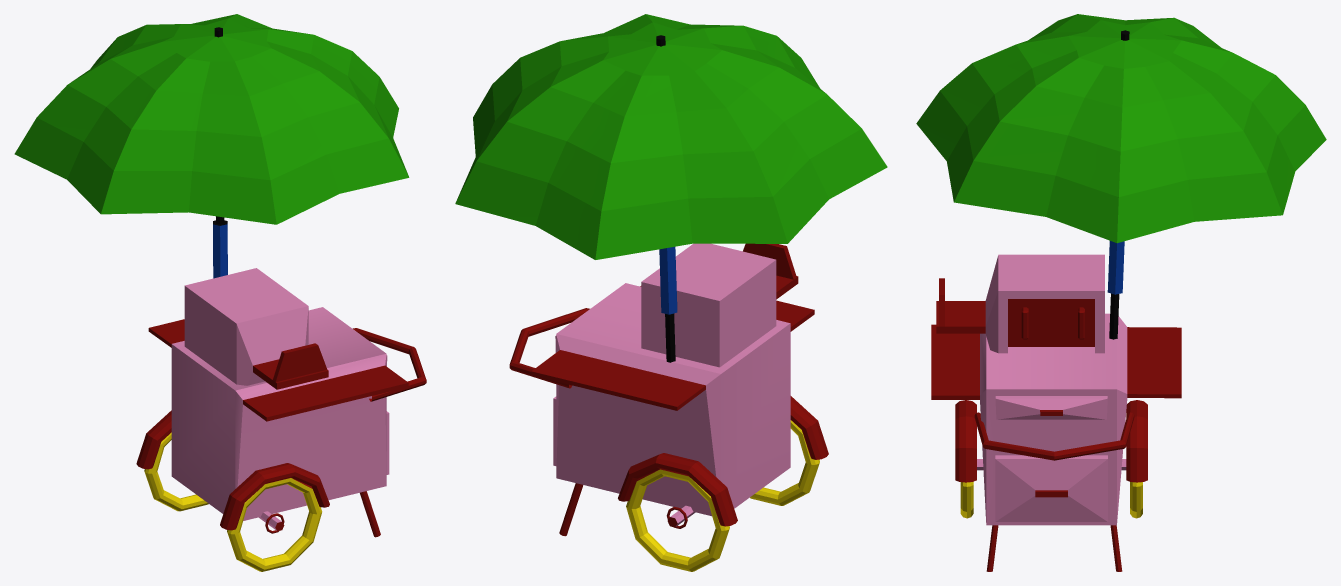
File: HotDogCart_KW.fbx
3 views of the same model, side by side, from view 1: azimuth 30°, elevation 25°; view 2: azimuth 150°, elevation 25°; view 3: azimuth 270°, elevation 25° (orthographic). The views are drawn at different scales.
Parts seen in each view (by area): view 1: HotDogCart_KW; view 2: HotDogCart_KW; view 3: HotDogCart_KW.
Part boxes in pixels (box(x1,y1,x2,y2)): HotDogCart_KW: box(14, 14, 426, 571); HotDogCart_KW: box(455, 14, 887, 571); HotDogCart_KW: box(916, 14, 1326, 571).
Size of the model in its own units: 274 by 372 by 280.
